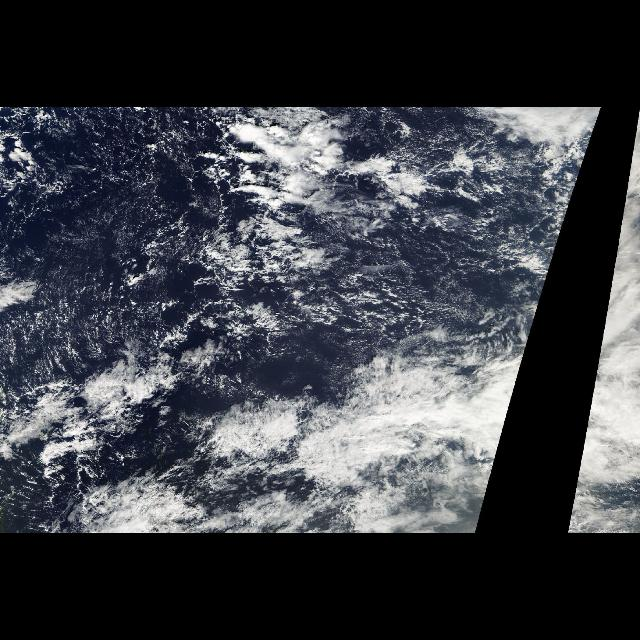Gravel: (32, 108, 228, 356)
Sugar: (0, 112, 200, 344)
